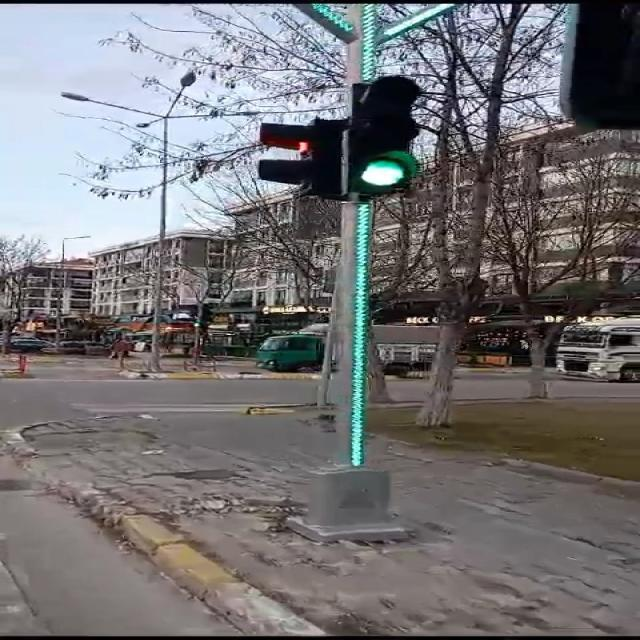yesil: (349, 76, 421, 202)
